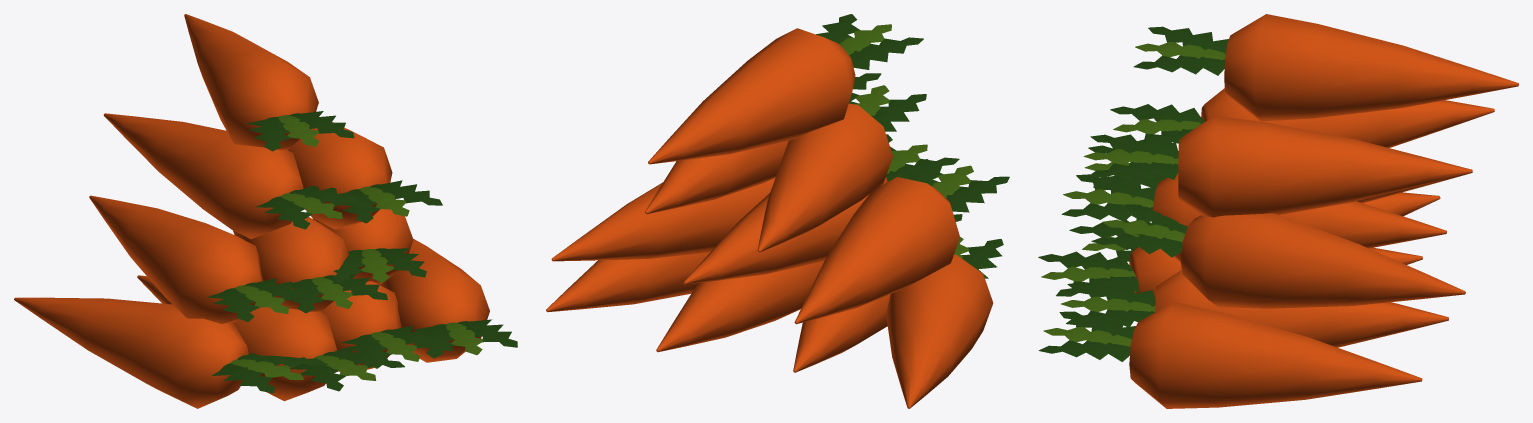
File: pile-vegetable-10.obj
The picture shows the model from 3 angles, left to right: view 1: azimuth 30°, elevation 25°; view 2: azimuth 150°, elevation 25°; view 3: azimuth 270°, elevation 25°; orthographic projection. The views are drawn at different scales.
Visible parts, largest first — view 1: pile-vegetable-10; view 2: pile-vegetable-10; view 3: pile-vegetable-10.
Boxes of the visible parts, x1,y1,x2,y2 form: pile-vegetable-10: (14,14,517,408); pile-vegetable-10: (546,14,1009,408); pile-vegetable-10: (1038,14,1518,408).
Size of the model in its own units: 0.6447 by 0.512 by 0.7088.
1 material, 1 textured.
